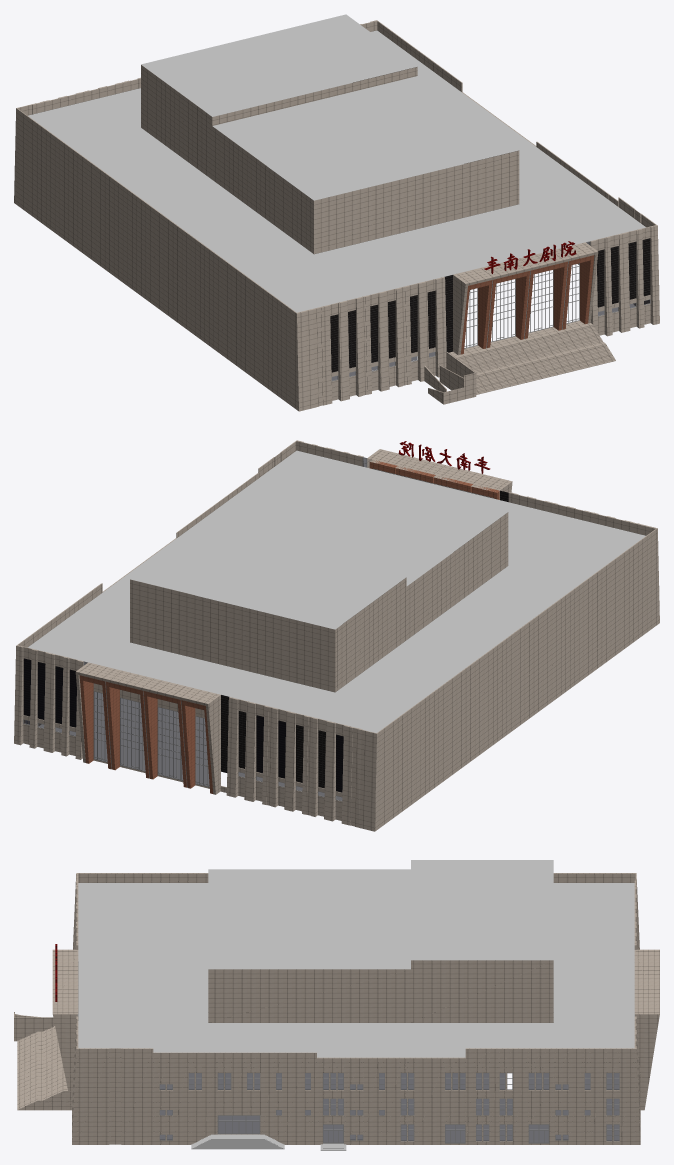
File: juyuan-2.FBX
3 views of the same model, one above another, from view 1: azimuth 30°, elevation 25°; view 2: azimuth 150°, elevation 25°; view 3: azimuth 270°, elevation 25° (orthographic).
Visible parts, largest first — view 1: juyuan-2, juyuan-1, juyuan-5, juyuan-3, juyuan-7, Text001; view 2: juyuan-2, juyuan-1, juyuan-6, juyuan-3, juyuan-5, juyuan-7, Text001; view 3: juyuan-1, juyuan-2, juyuan-6, juyuan-7, juyuan-4.
Part boxes in pixels (<box>): juyuan-2: <box>14,20,659,411</box>; juyuan-1: <box>28,14,645,312</box>; juyuan-5: <box>330,238,650,372</box>; juyuan-3: <box>460,255,594,354</box>; juyuan-7: <box>331,241,650,381</box>; Text001: <box>484,241,576,273</box>; juyuan-2: <box>14,440,659,831</box>; juyuan-1: <box>28,450,645,732</box>; juyuan-6: <box>24,458,366,800</box>; juyuan-3: <box>79,460,499,793</box>; juyuan-5: <box>23,490,508,792</box>; juyuan-7: <box>23,457,493,801</box>; Text001: <box>398,441,490,473</box>; juyuan-1: <box>78,860,634,1057</box>; juyuan-2: <box>14,873,659,1144</box>; juyuan-6: <box>160,1073,619,1142</box>; juyuan-7: <box>77,961,634,1143</box>; juyuan-4: <box>191,1134,346,1150</box>.
Bounding box in the file's own units: 66585 × 100043 × 25592.
